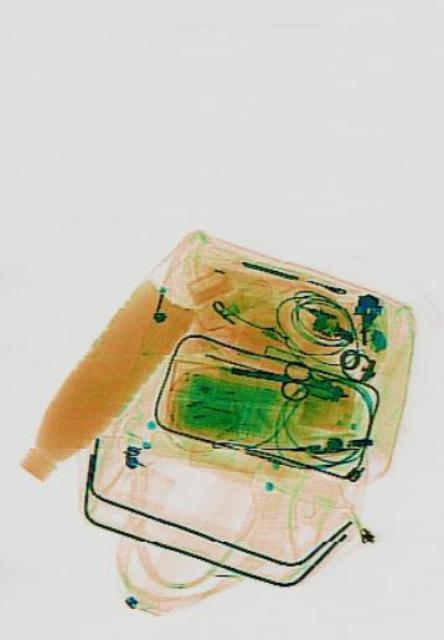Scissors: (224, 350, 310, 400)
